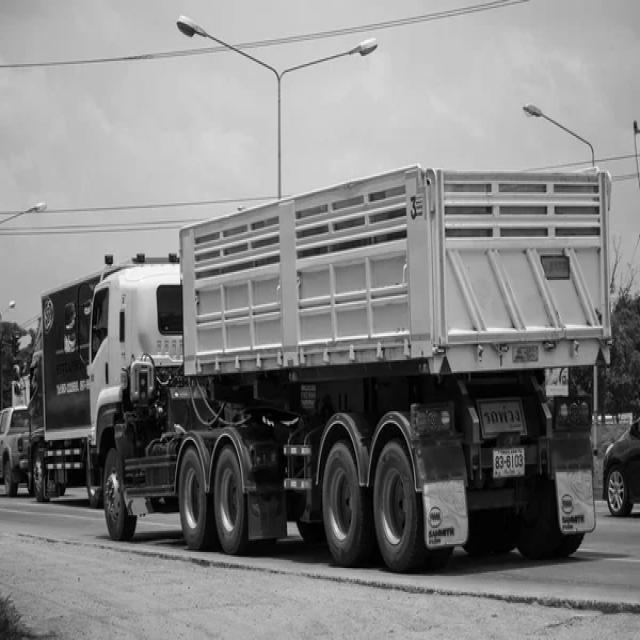Car: (605, 421, 640, 517), (0, 407, 27, 498)
Truck: (87, 166, 612, 573), (28, 270, 112, 502)
